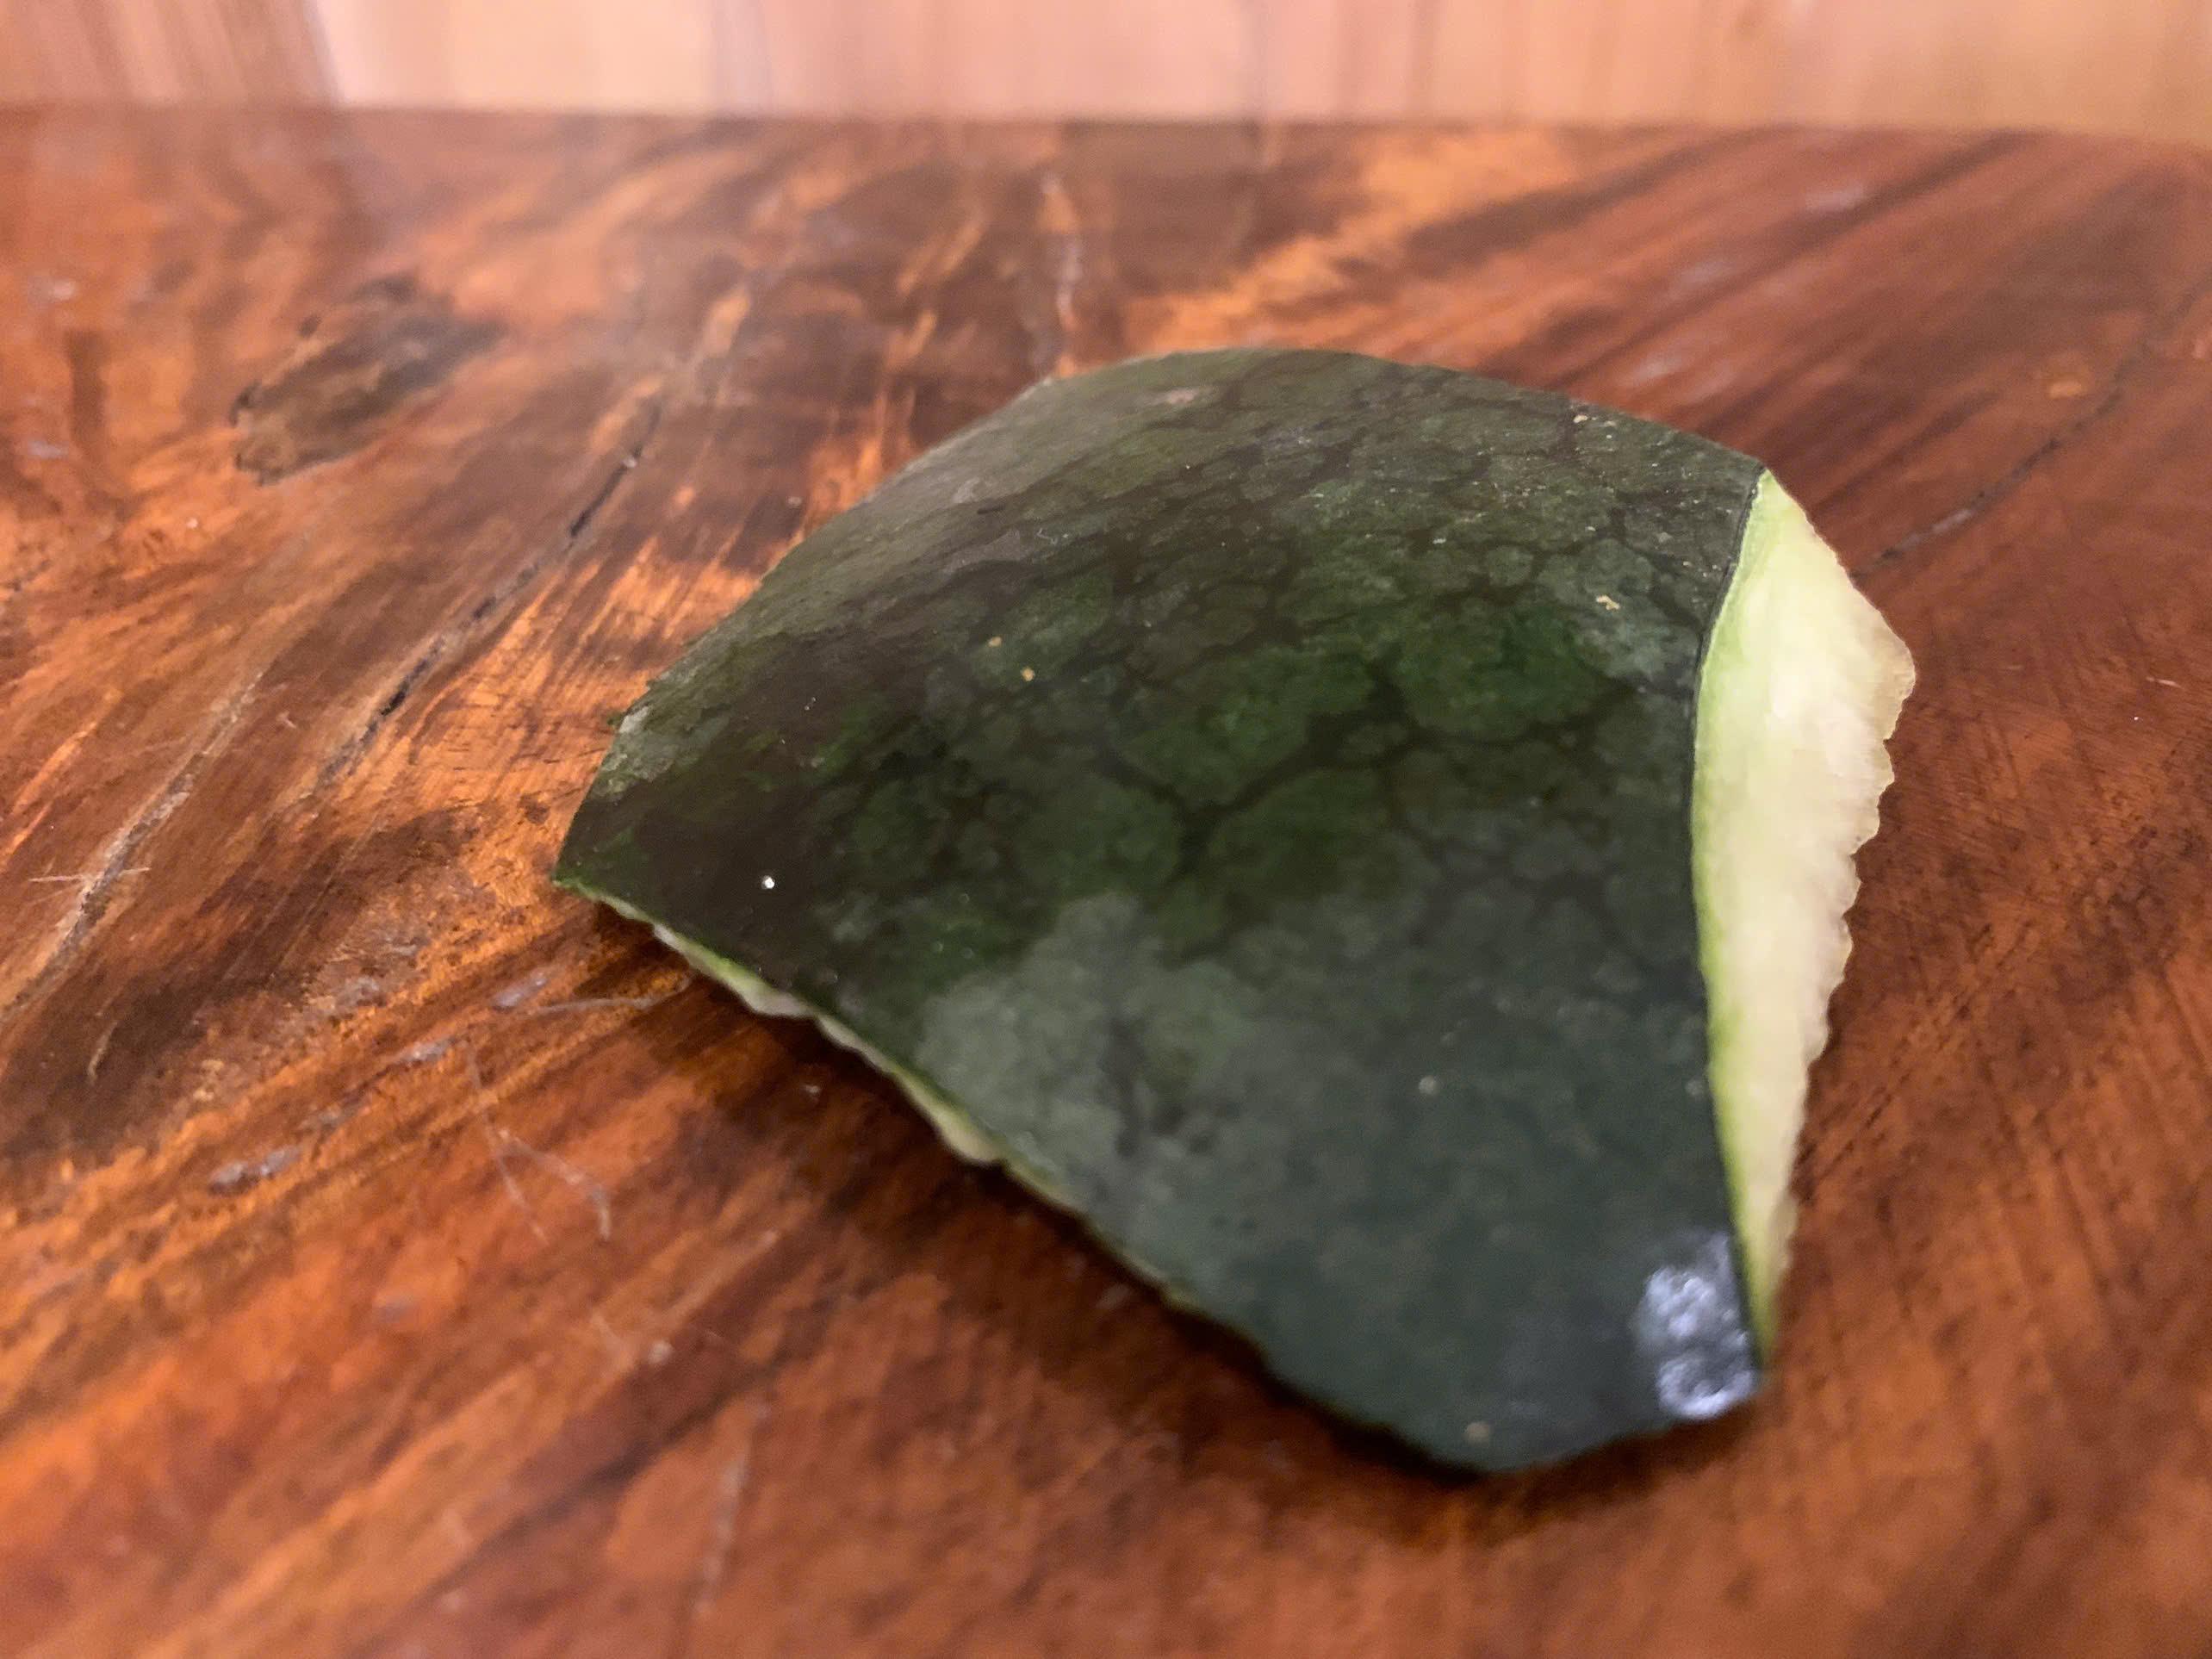Huu co: (559, 345, 1914, 1478)
